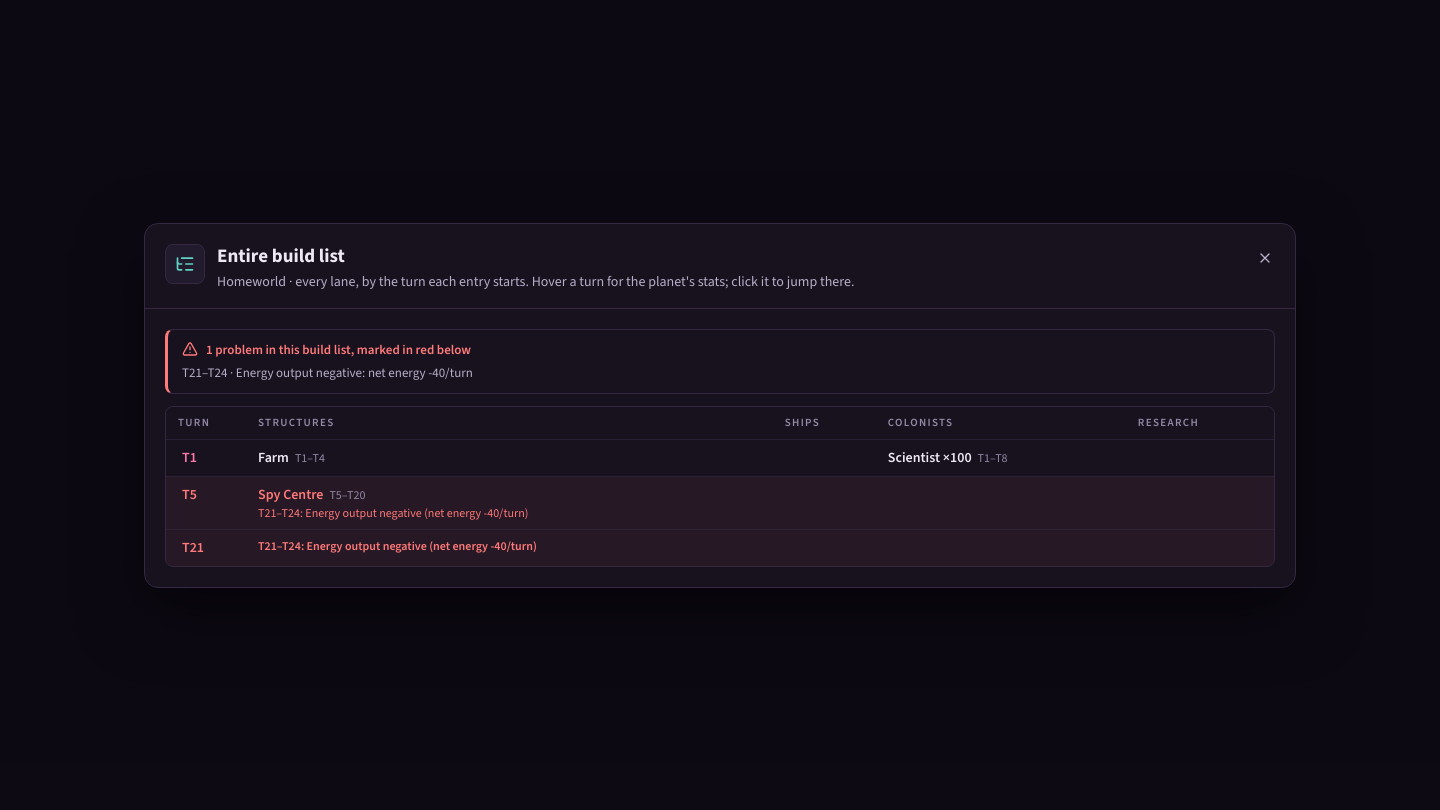
Test: BuildListOverviewModal › shows planet stats for a turn on hover
Hover over the button "T5" at (189, 494), box [178, 484, 201, 504]
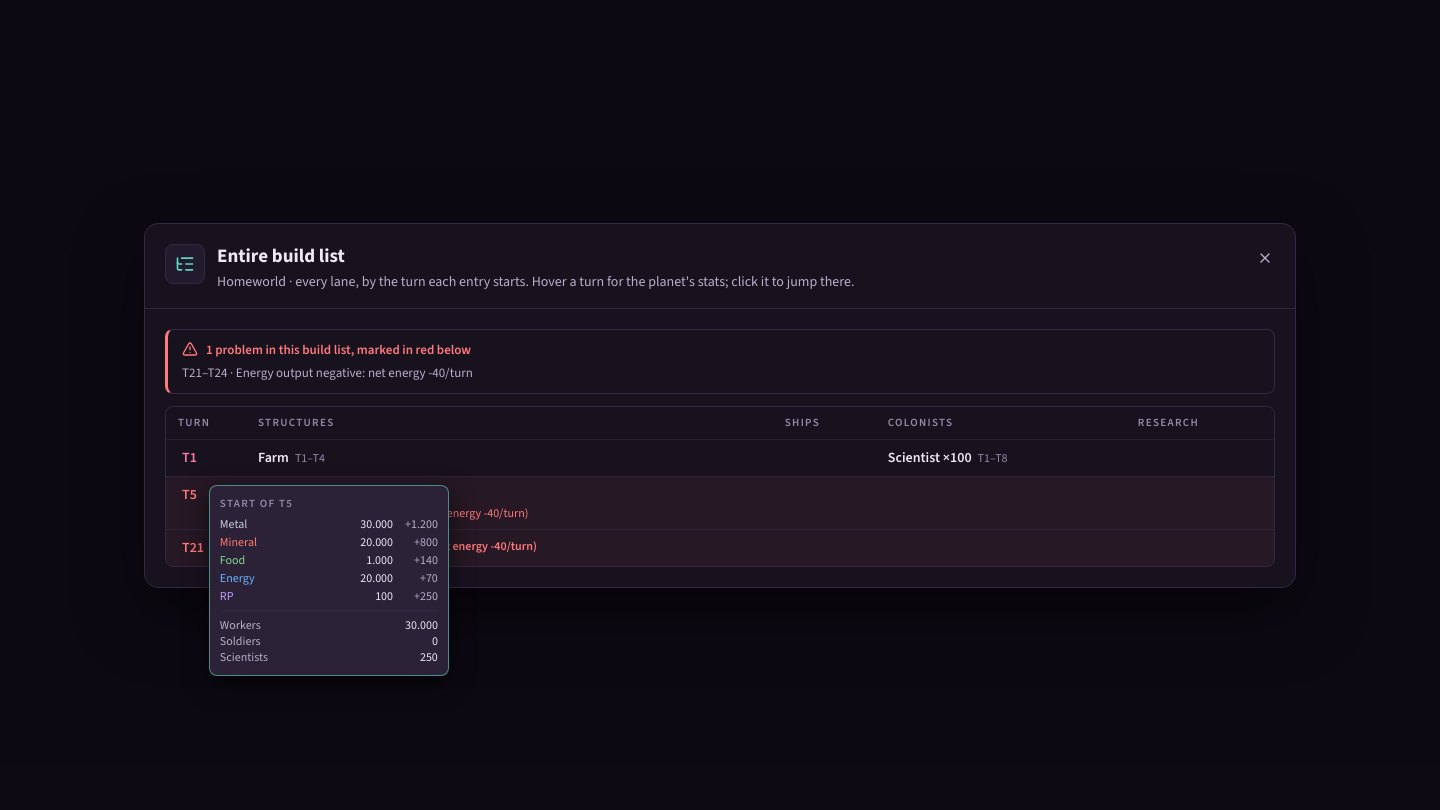
Expected: the tooltip shows "Metal", [220, 516, 247, 532]
Expected: the tooltip shows "30.000", [360, 516, 393, 532]
Expected: the tooltip shows "+1.200", [405, 516, 438, 532]
